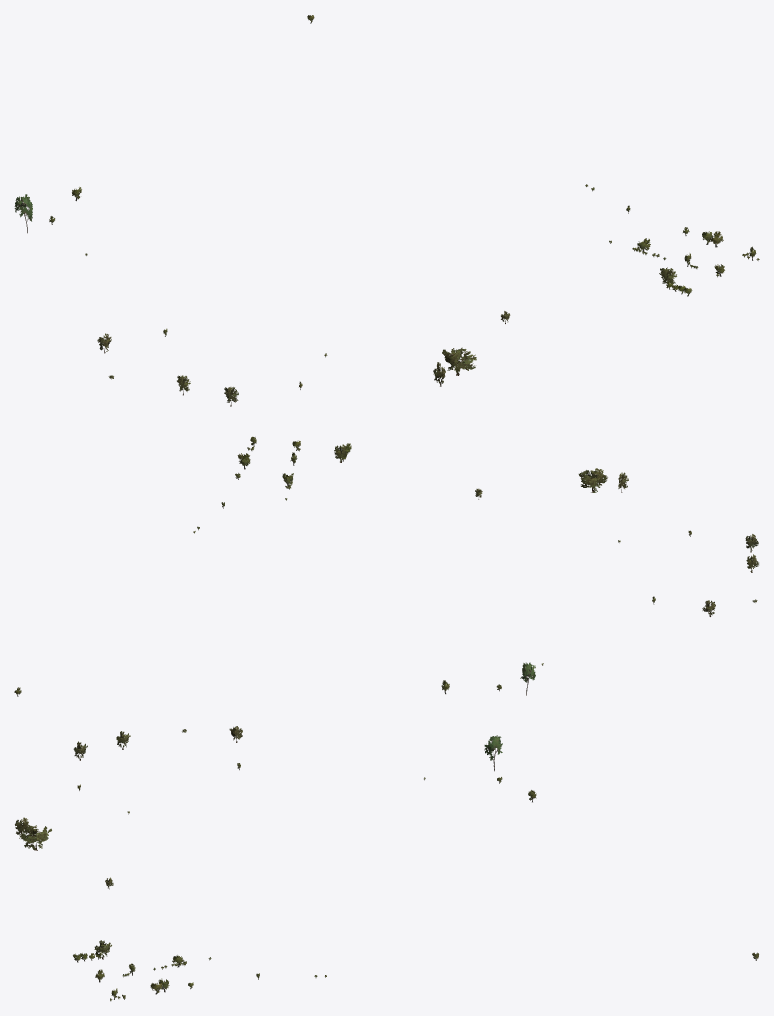
The picture shows the model from 3 angles, top to bottom: view 1: azimuth 30°, elevation 25°; view 2: azimuth 150°, elevation 25°; view 3: azimuth 270°, elevation 25°; orthographic projection. The views are drawn at different scales.
Parts seen in each view (by area): view 1: jacaranda_tree street foliage, island_tree_01 street foliage; view 2: jacaranda_tree street foliage, island_tree_01 street foliage; view 3: jacaranda_tree street foliage, island_tree_01 street foliage.
Boxes of the visible parts, left/top/right/bottom form: jacaranda_tree street foliage: left=97, top=267, right=676, bottom=402; island_tree_01 street foliage: left=49, top=15, right=759, bottom=387; jacaranda_tree street foliage: left=334, top=444, right=758, bottom=615; island_tree_01 street foliage: left=14, top=436, right=691, bottom=694; jacaranda_tree street foliage: left=15, top=726, right=242, bottom=957; island_tree_01 street foliage: left=73, top=763, right=758, bottom=1000.
Bounding box in the file's own units: 343 × 20.93 × 400.
6 materials, 6 textured.
